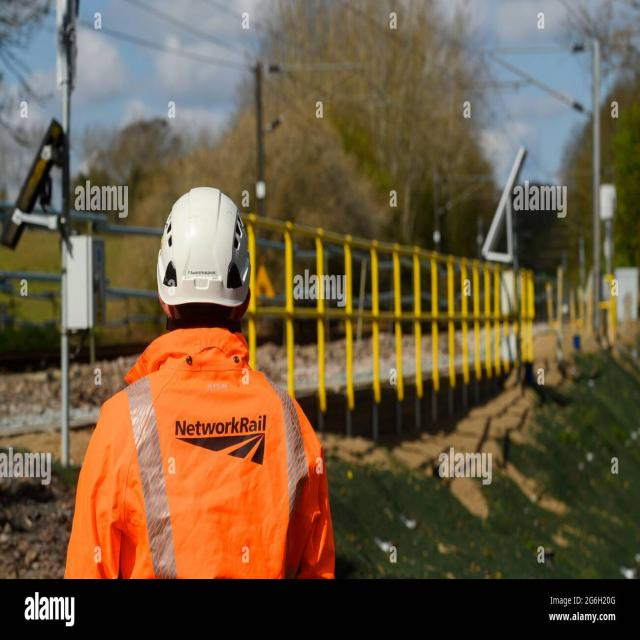Reflective-Jacket: (63, 334, 333, 580)
Safety-Helmet: (148, 180, 258, 315)
